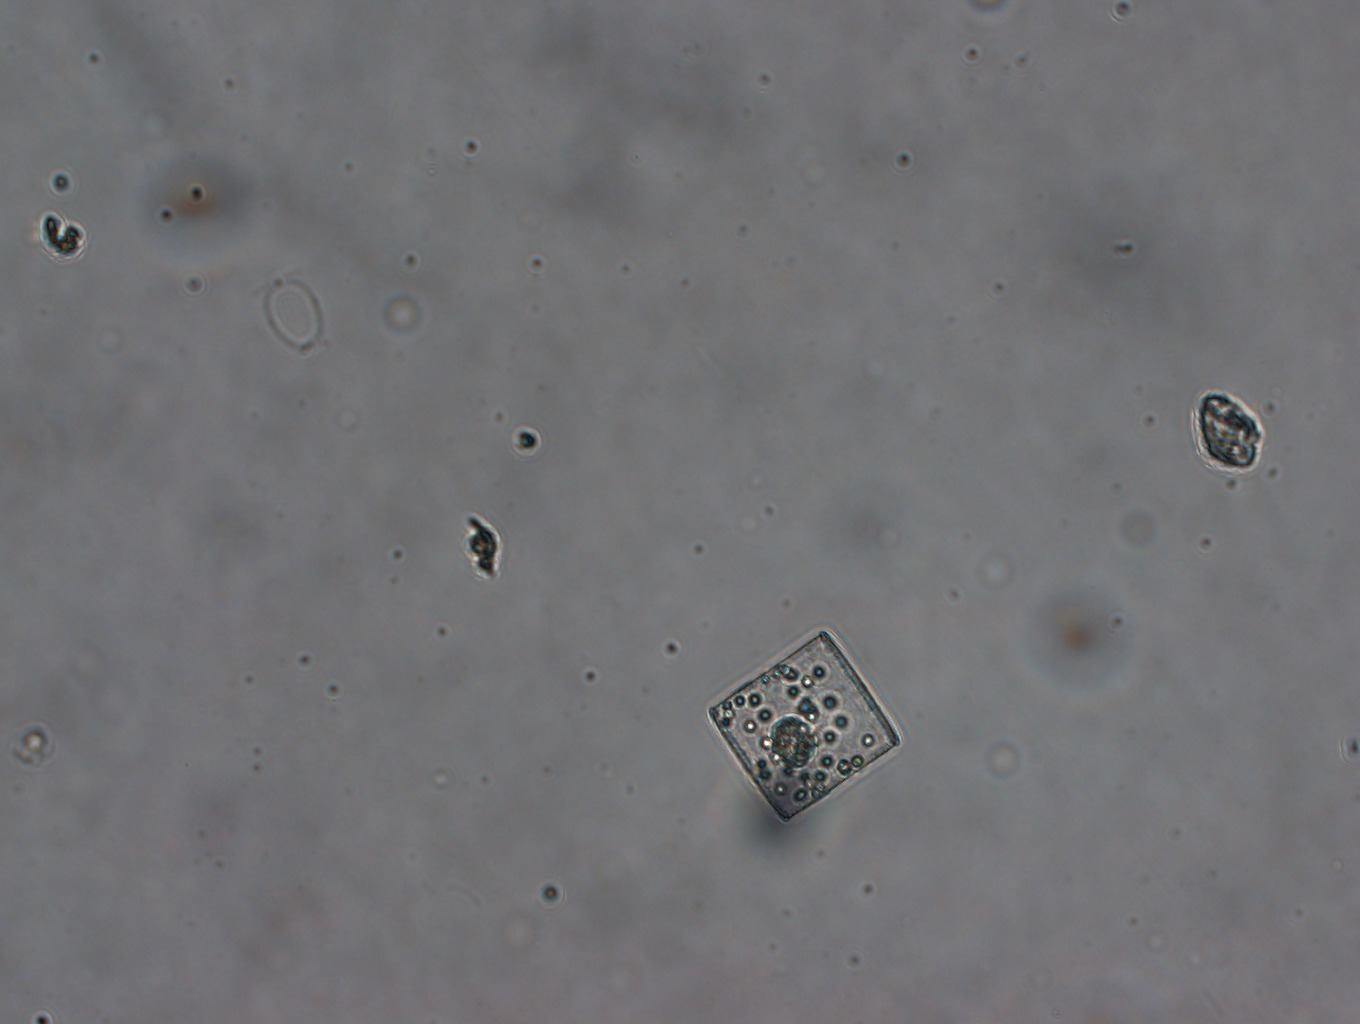guinardia flaccida: (707, 628, 899, 822)
